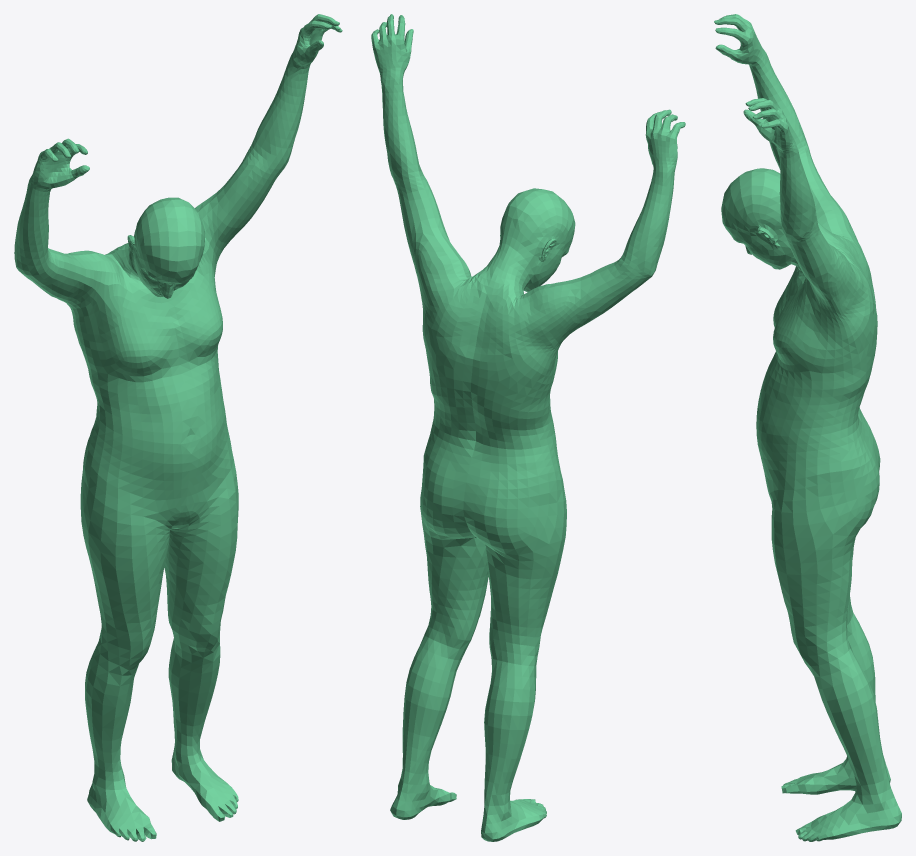
Rendered from hwc_free_04.glb.
3 renders of one model, left to right at view 1: azimuth 30°, elevation 25°; view 2: azimuth 150°, elevation 25°; view 3: azimuth 270°, elevation 25°, orthographic. The views are drawn at different scales.
Visible parts, largest first — view 1: hwc_free; view 2: hwc_free; view 3: hwc_free.
Part boxes in pixels (x1,y1,x2,y2): hwc_free: (14,14,342,841); hwc_free: (371,14,685,841); hwc_free: (714,14,901,841).
Bounding box in the file's own units: 0.8382 × 2.02 × 0.4452.
